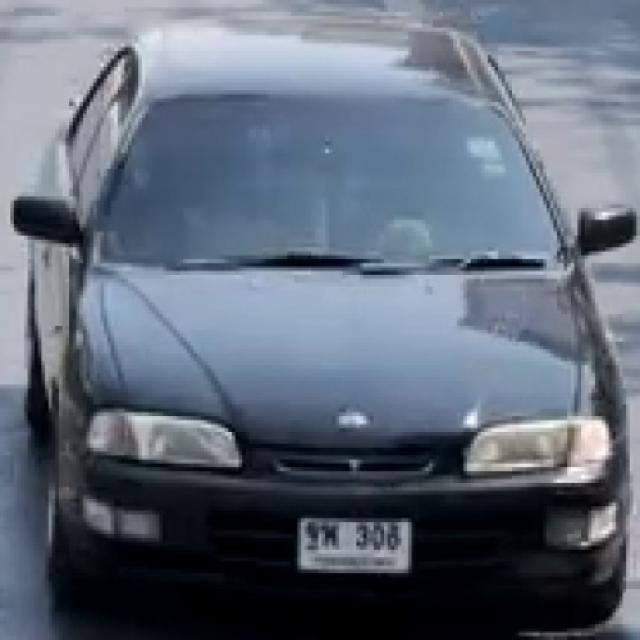plate: (301, 518, 410, 575)
